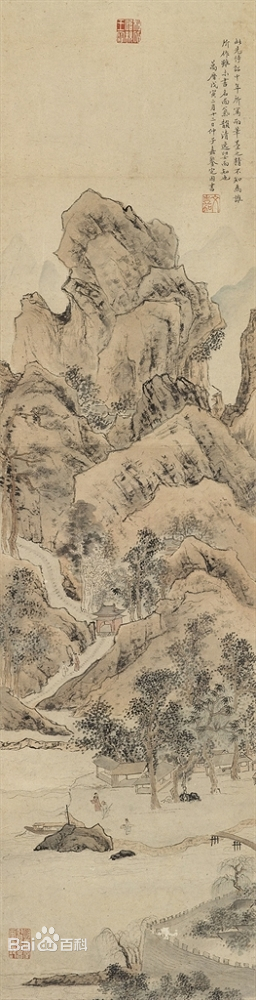bridge: (219, 835, 256, 852)
creek: (28, 544, 64, 611), (30, 665, 80, 702), (76, 610, 101, 656), (54, 716, 76, 735)
kid: (93, 796, 110, 816), (121, 821, 133, 838)
mountain: (66, 207, 197, 497), (2, 310, 58, 538), (208, 409, 256, 625), (79, 497, 203, 528), (167, 538, 207, 610), (243, 327, 256, 402)
river: (13, 913, 140, 995), (15, 859, 203, 906), (10, 750, 66, 822)
tree: (215, 635, 256, 786), (128, 680, 173, 812), (183, 619, 217, 793), (123, 528, 162, 623), (83, 708, 134, 759), (210, 896, 256, 944)
